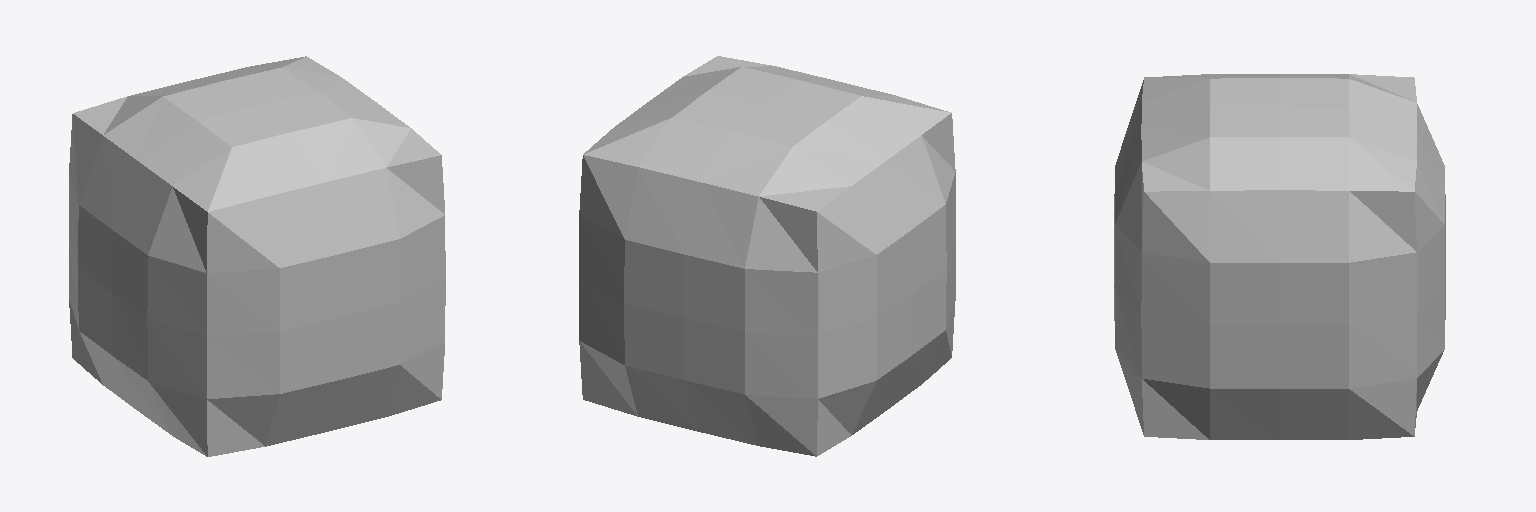
File: snkb.obj
The picture shows the model from 3 angles: view 1: azimuth 30°, elevation 25°; view 2: azimuth 150°, elevation 25°; view 3: azimuth 270°, elevation 25°; orthographic projection.
Parts seen in each view (by area): view 1: Icosphere; view 2: Icosphere; view 3: Icosphere.
Part boxes in pixels (x1,y1,x2,y2): Icosphere: (69,56,445,456); Icosphere: (579,56,955,456); Icosphere: (1114,74,1445,439).
Bounding box in the file's own units: 2.42 × 2.4 × 2.41.